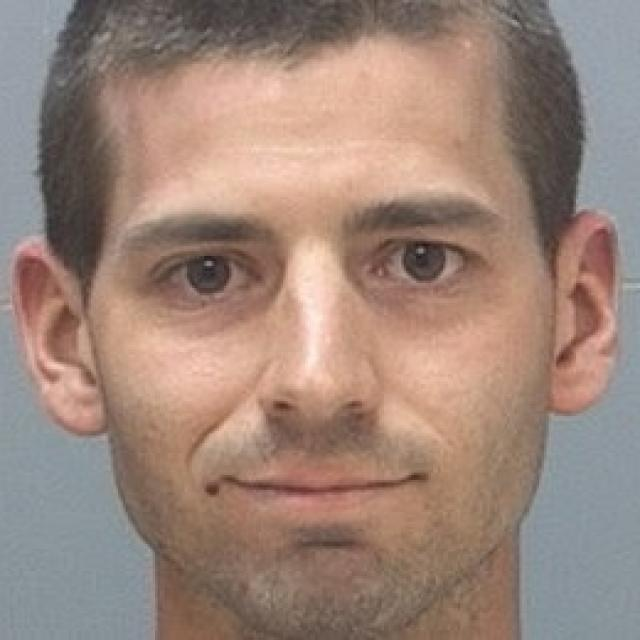Normal: (75, 36, 558, 633)
